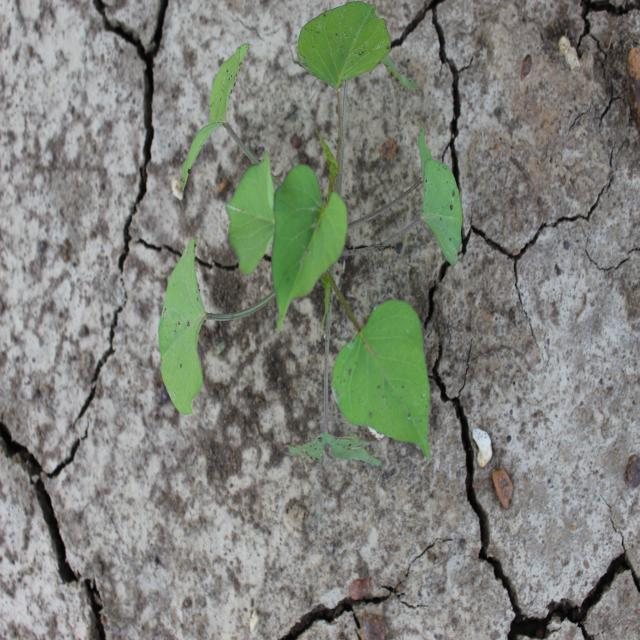MorningGlory: (157, 0, 466, 471)
